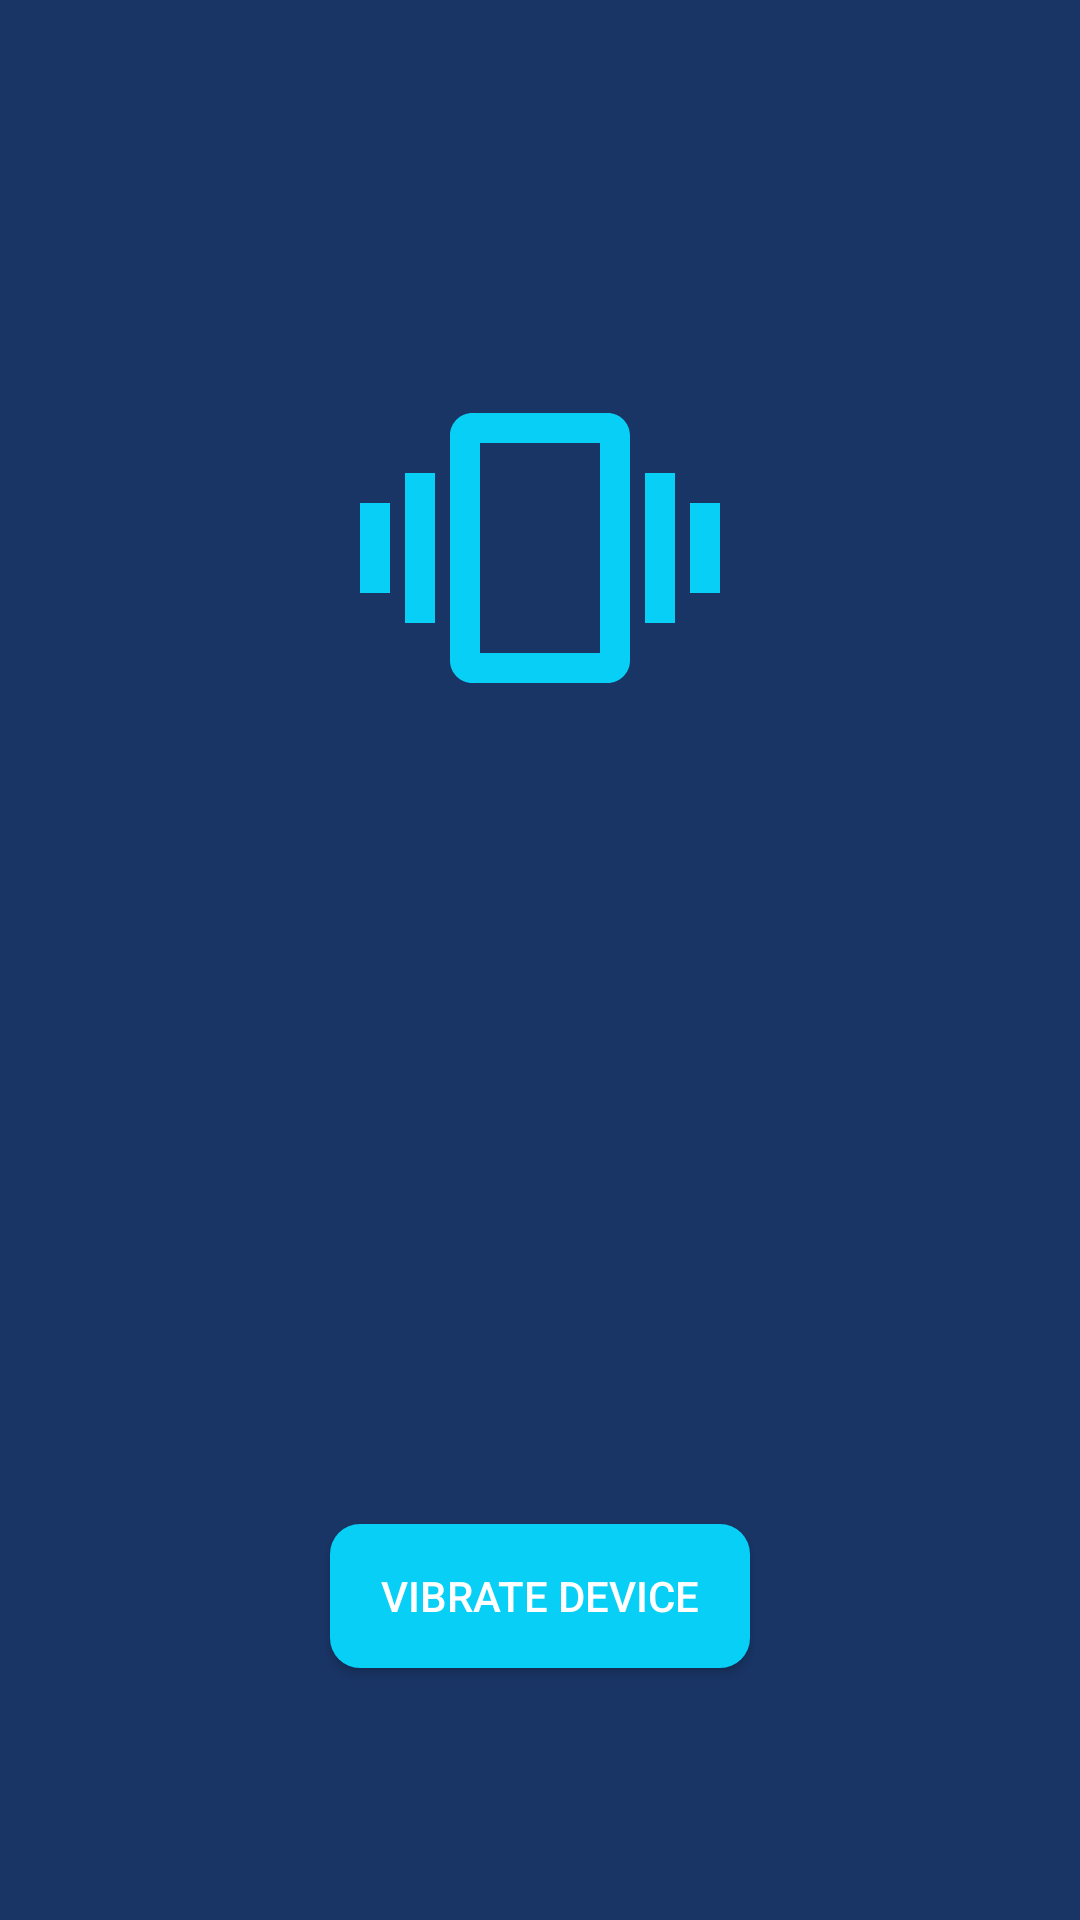

Where icons sit on this 1080×1920 app screen, as (x1, y1, x2, y2):
vibrate: (360, 413, 720, 683)
